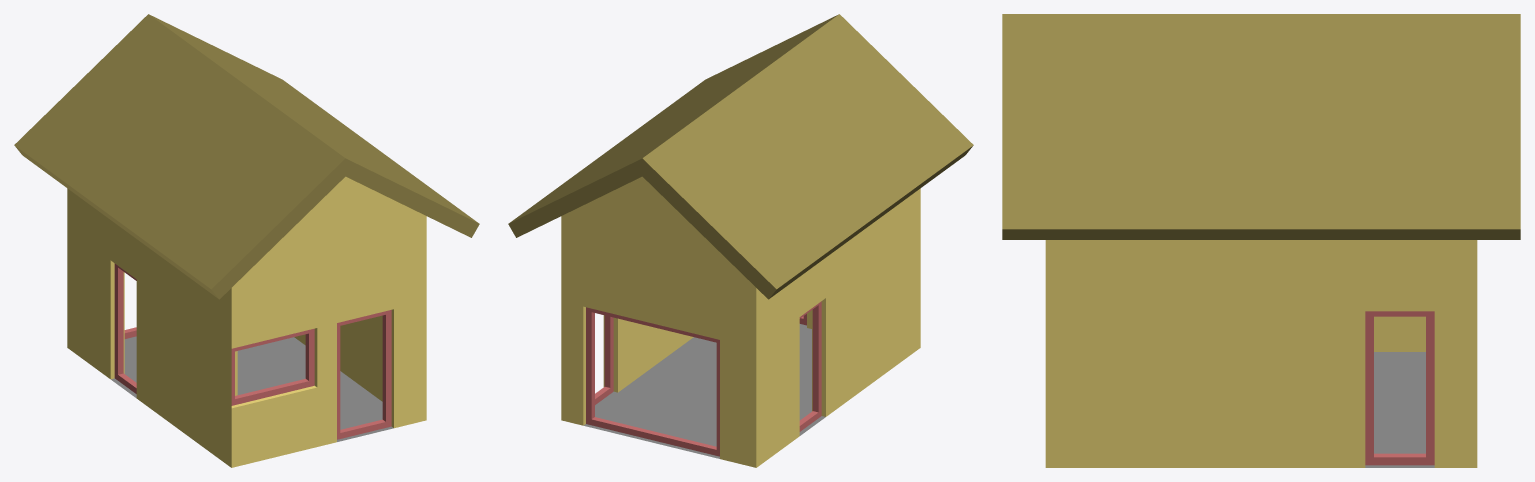
The model's file is result.glb.
The picture shows the model from 3 angles, left to right: view 1: azimuth 30°, elevation 25°; view 2: azimuth 150°, elevation 25°; view 3: azimuth 270°, elevation 25°; orthographic projection. The views are drawn at different scales.
Visible parts, largest first — view 1: a10dc4de-ad05-40c6-a432-125c10261274__undefined, 64f14e03-35d3-41fc-b89b-e8a0238ee0ba__undefined (×2), 5266d44c-ceef-404c-9cf3-25c06fbe33e0__Plane_6, 43f4d535-daca-4778-9c65-4c9dac319e7f__Box, baa240e6-2ef1-46a6-8a77-cd1e22f80227__Box_3, 67fa8159-62f2-4476-863e-55fe4a84deee__Box_12; view 2: 64f14e03-35d3-41fc-b89b-e8a0238ee0ba__undefined (×2), a10dc4de-ad05-40c6-a432-125c10261274__undefined, 5266d44c-ceef-404c-9cf3-25c06fbe33e0__Plane_6, 2343972a-7913-4335-ae7d-5c23cf6645a7__Box_9, 67fa8159-62f2-4476-863e-55fe4a84deee__Box_12, c35898a5-c4e0-451b-9834-2da6f2390c0a__Box_15; view 3: 64f14e03-35d3-41fc-b89b-e8a0238ee0ba__undefined, a10dc4de-ad05-40c6-a432-125c10261274__undefined, 5266d44c-ceef-404c-9cf3-25c06fbe33e0__Plane_6, c35898a5-c4e0-451b-9834-2da6f2390c0a__Box_15.
Part boxes in pixels (bbox=[...]): a10dc4de-ad05-40c6-a432-125c10261274__undefined: bbox=[67, 176, 426, 467]; 64f14e03-35d3-41fc-b89b-e8a0238ee0ba__undefined (×2): bbox=[14, 14, 479, 299]; 5266d44c-ceef-404c-9cf3-25c06fbe33e0__Plane_6: bbox=[111, 336, 393, 441]; 43f4d535-daca-4778-9c65-4c9dac319e7f__Box: bbox=[337, 310, 391, 439]; baa240e6-2ef1-46a6-8a77-cd1e22f80227__Box_3: bbox=[231, 328, 314, 405]; 67fa8159-62f2-4476-863e-55fe4a84deee__Box_12: bbox=[114, 263, 136, 393]; 64f14e03-35d3-41fc-b89b-e8a0238ee0ba__undefined (×2): bbox=[508, 14, 973, 299]; a10dc4de-ad05-40c6-a432-125c10261274__undefined: bbox=[561, 176, 920, 467]; 5266d44c-ceef-404c-9cf3-25c06fbe33e0__Plane_6: bbox=[583, 324, 825, 458]; 2343972a-7913-4335-ae7d-5c23cf6645a7__Box_9: bbox=[586, 307, 719, 456]; 67fa8159-62f2-4476-863e-55fe4a84deee__Box_12: bbox=[799, 301, 821, 431]; c35898a5-c4e0-451b-9834-2da6f2390c0a__Box_15: bbox=[595, 315, 613, 404]; 64f14e03-35d3-41fc-b89b-e8a0238ee0ba__undefined: bbox=[1002, 14, 1520, 239]; a10dc4de-ad05-40c6-a432-125c10261274__undefined: bbox=[1045, 240, 1477, 467]; 5266d44c-ceef-404c-9cf3-25c06fbe33e0__Plane_6: bbox=[1365, 352, 1434, 467]; c35898a5-c4e0-451b-9834-2da6f2390c0a__Box_15: bbox=[1365, 311, 1434, 465].
Size of the model in its own units: 472 by 500 by 600.
